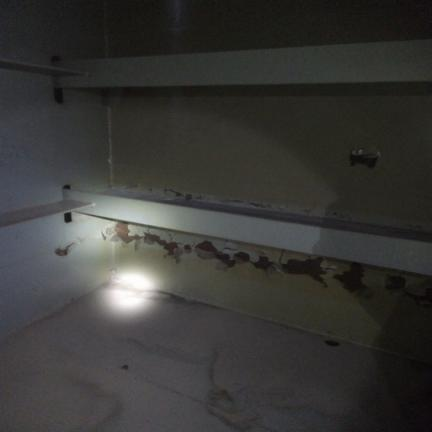besi_tidak_karat: (111, 87, 431, 230), (64, 189, 431, 274), (0, 70, 109, 211), (0, 214, 108, 333), (0, 0, 102, 63)
karat: (281, 257, 326, 286), (195, 241, 235, 267), (333, 262, 366, 291), (144, 233, 178, 255), (114, 223, 139, 243), (249, 256, 273, 270), (386, 276, 405, 290), (55, 243, 73, 256), (234, 251, 248, 263)
